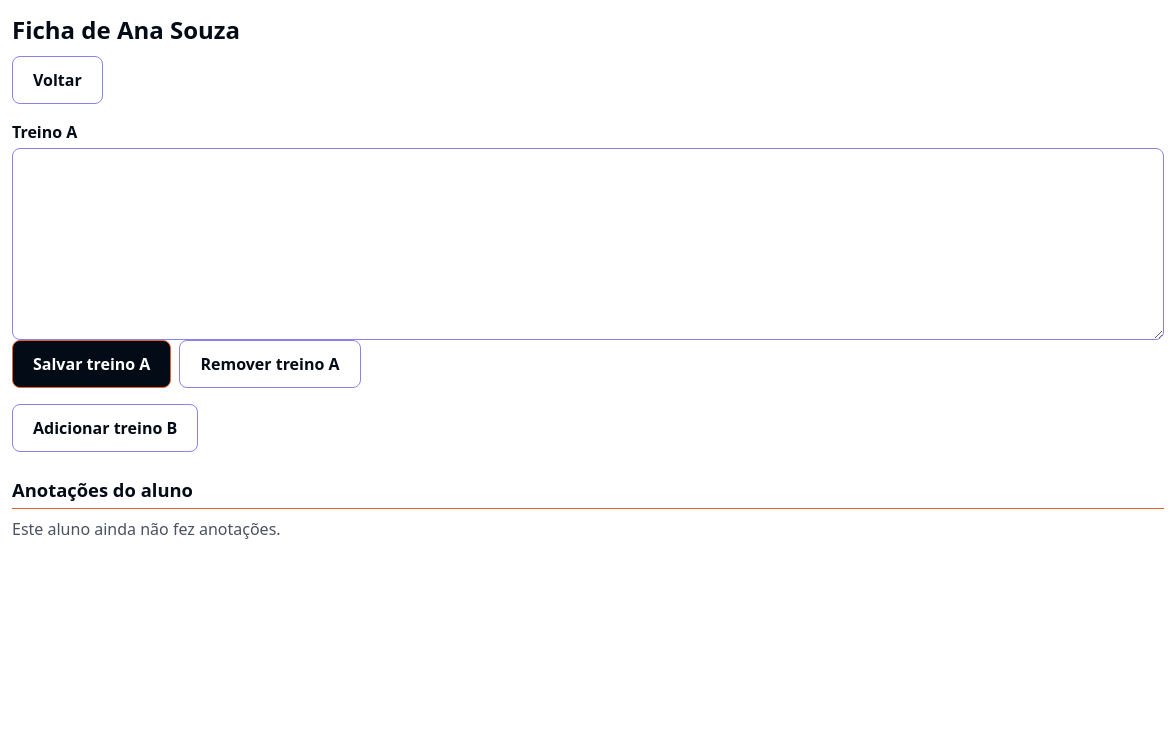
FichaAluno › salva o texto e indica "Salvo"
In the text box labelled "Treino A": {"x": 588, "y": 244} [12,148,1164,340], type "remada 4x10"
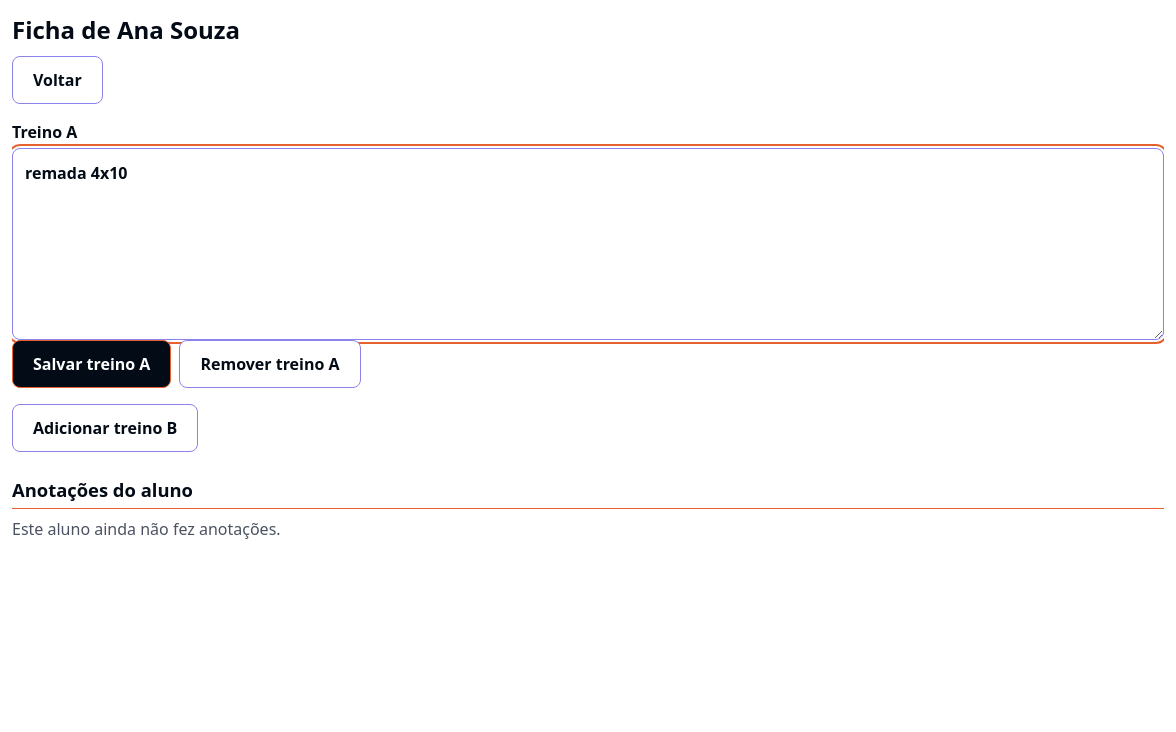
Click the button "Salvar treino A": {"x": 92, "y": 364} [12,340,171,388]
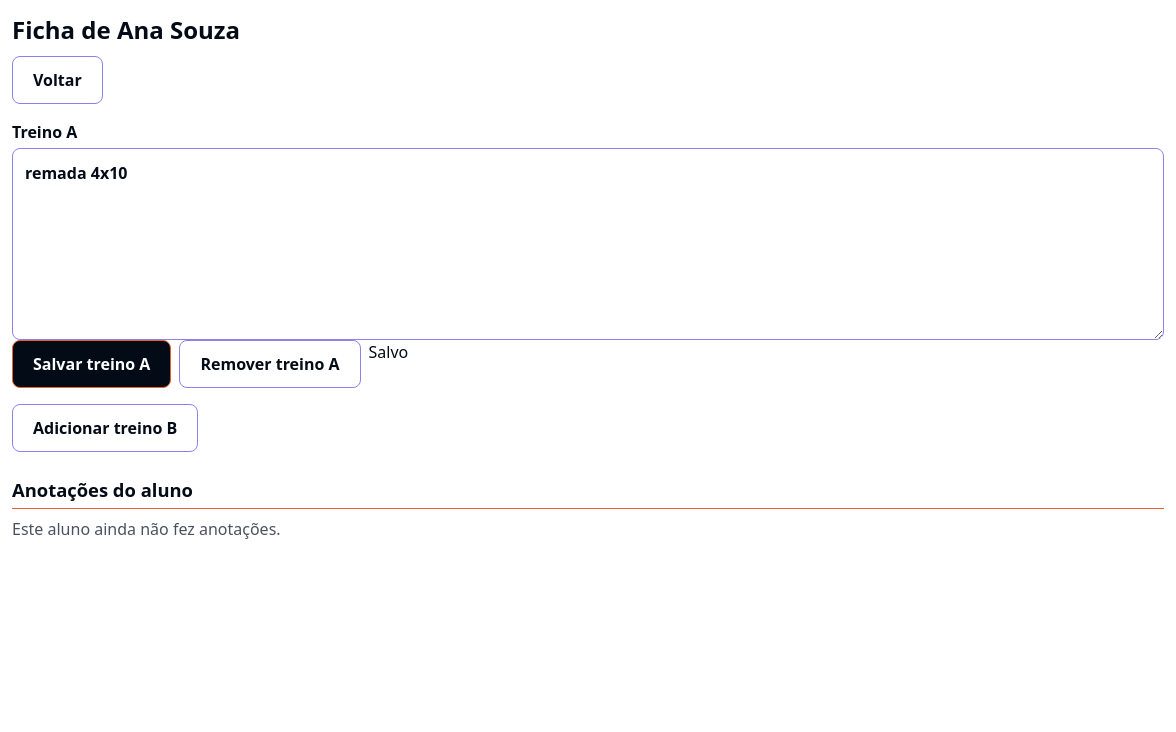
Expected: the text "Salvo" is shown, [369,341,408,363]
